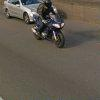Motorcycle: (28, 1, 72, 46)
